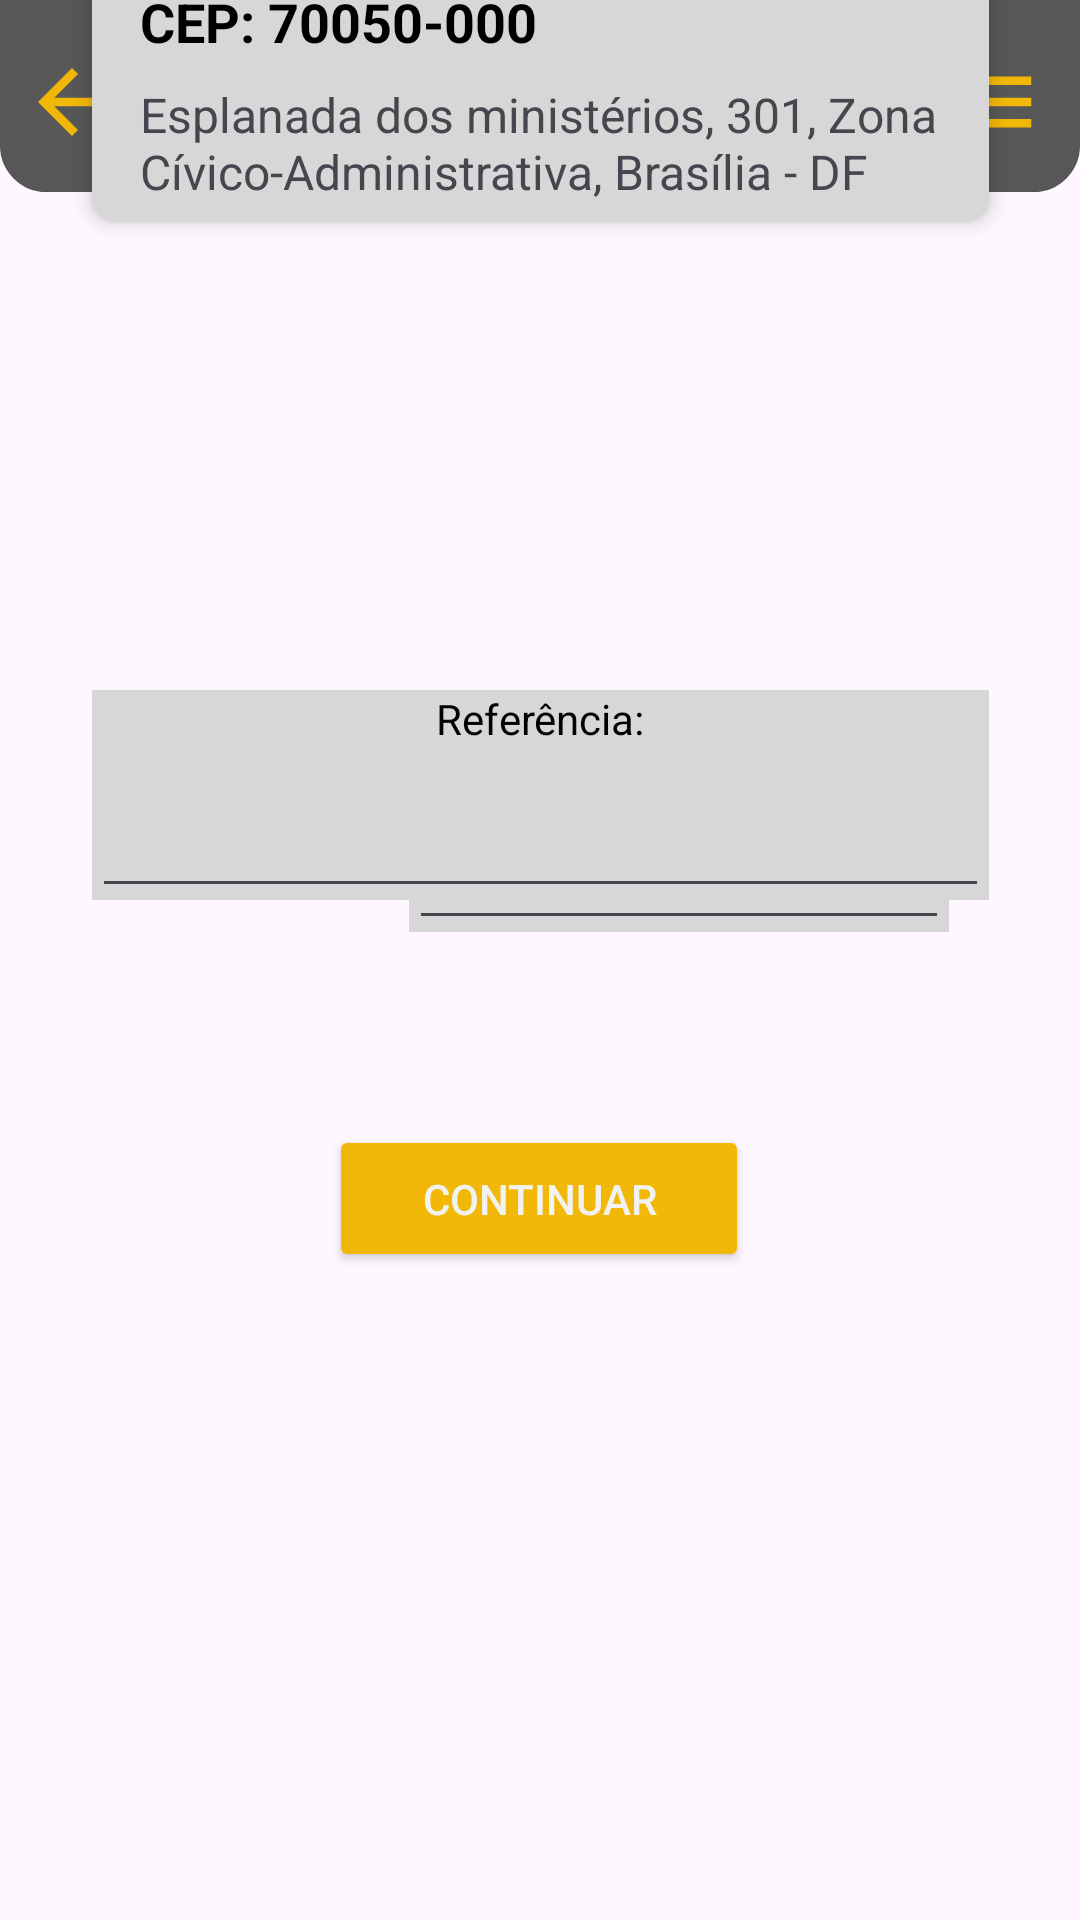

Point at icon controls on the screen. Image size 1080w x 1920h, points as [x,y].
arrow back: [72,102]
